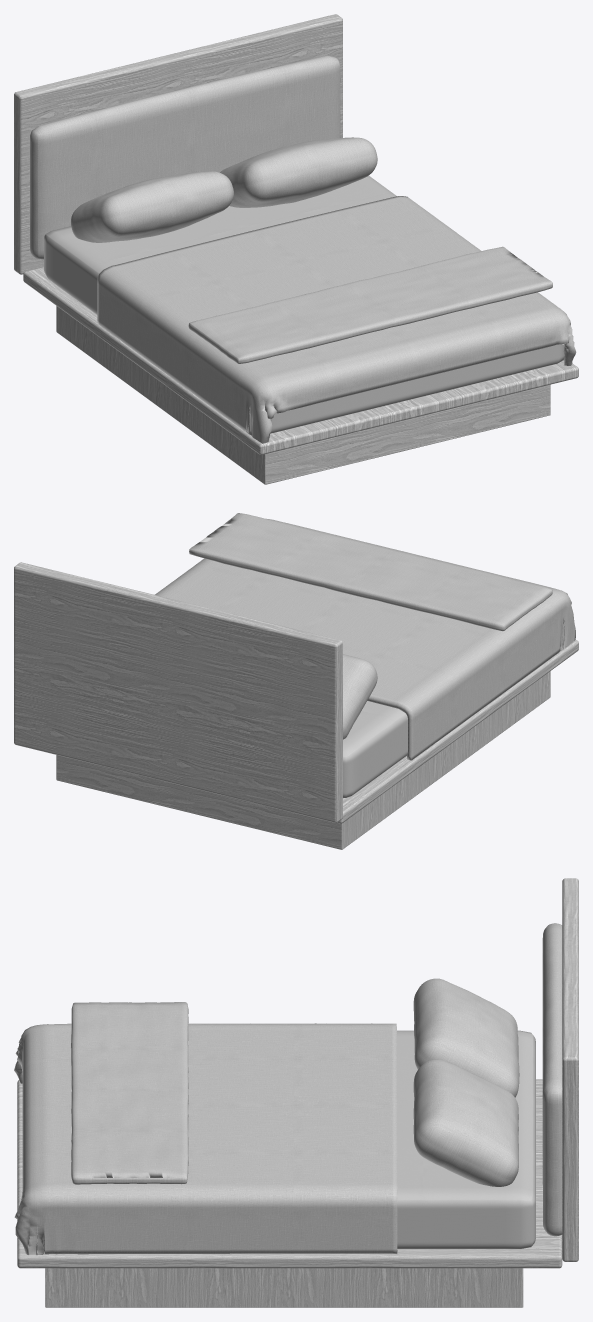
File: bed-queen.gltf
3 renders of one model, top to bottom at view 1: azimuth 30°, elevation 25°; view 2: azimuth 150°, elevation 25°; view 3: azimuth 270°, elevation 25°, orthographic. The views are drawn at different scales.
Visible parts, largest first — view 1: bed; view 2: bed; view 3: bed.
Boxes of the visible parts, <box> form: bed: <box>14,14,578,484</box>; bed: <box>14,513,578,849</box>; bed: <box>14,878,578,1307</box>.
Size of the model in its own units: 1.54 by 1.03 by 2.03.
Materials: 4 (4 with a texture image).
